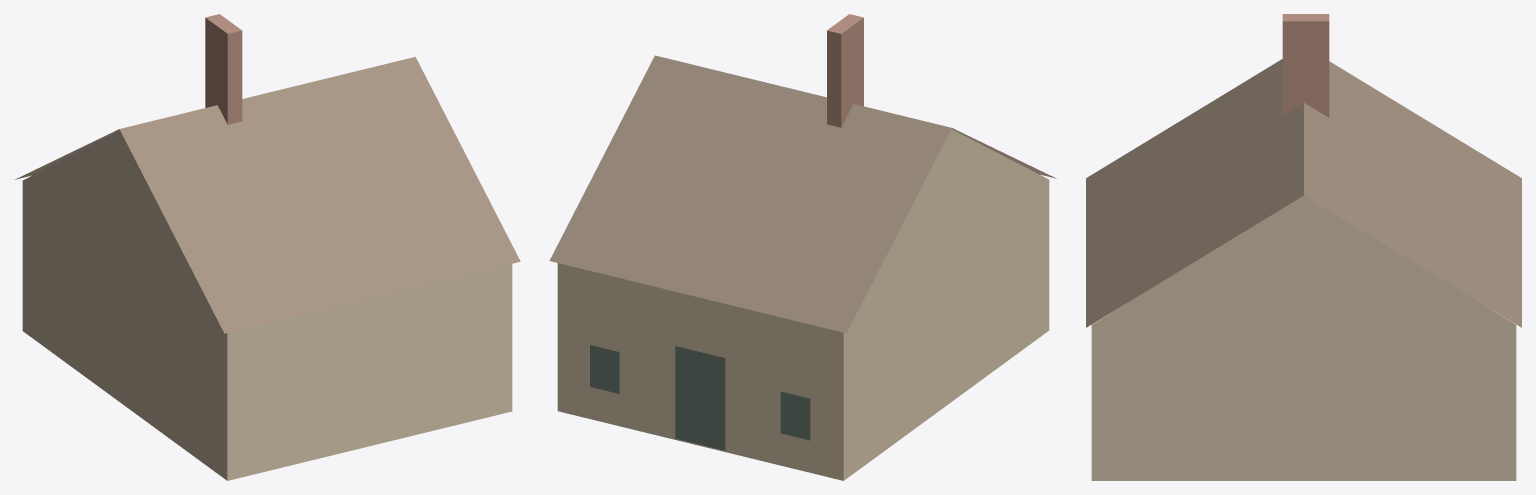
Rendered from recon_1835_south_d6_020__recommended_1835.glb.
3 renders of one model, left to right at view 1: azimuth 30°, elevation 25°; view 2: azimuth 150°, elevation 25°; view 3: azimuth 270°, elevation 25°, orthographic. The views are drawn at different scales.
Parts seen in each view (by area): view 1: recon_1835_south_d6_020__recommended_1835; view 2: recon_1835_south_d6_020__recommended_1835; view 3: recon_1835_south_d6_020__recommended_1835.
Boxes of the visible parts, <box> form: recon_1835_south_d6_020__recommended_1835: <box>15,14,520,480</box>; recon_1835_south_d6_020__recommended_1835: <box>549,14,1056,480</box>; recon_1835_south_d6_020__recommended_1835: <box>1086,14,1521,480</box>.
Bounding box in the file's own units: 7.42 × 8.54 × 9.13.
